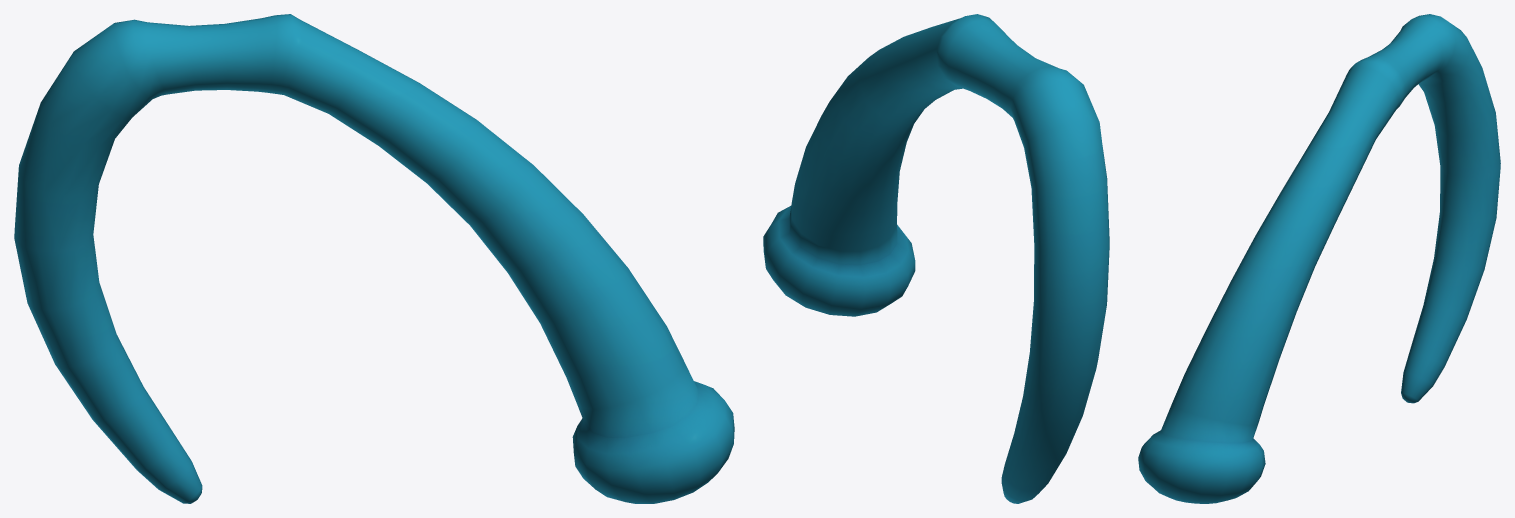
Rendered from DX_CHUNGBOGUI_ACC_R.FBX.
The picture shows the model from 3 angles, left to right: view 1: azimuth 30°, elevation 25°; view 2: azimuth 150°, elevation 25°; view 3: azimuth 270°, elevation 25°; orthographic projection. The views are drawn at different scales.
Visible parts, largest first — view 1: CHG_Tail; view 2: CHG_Tail; view 3: CHG_Tail.
Part boxes in pixels (x1,y1,x2,y2): CHG_Tail: (14, 14, 734, 503); CHG_Tail: (763, 14, 1109, 503); CHG_Tail: (1138, 14, 1500, 503).
Bounding box in the file's own units: 8.53 × 7.46 × 6.62.
